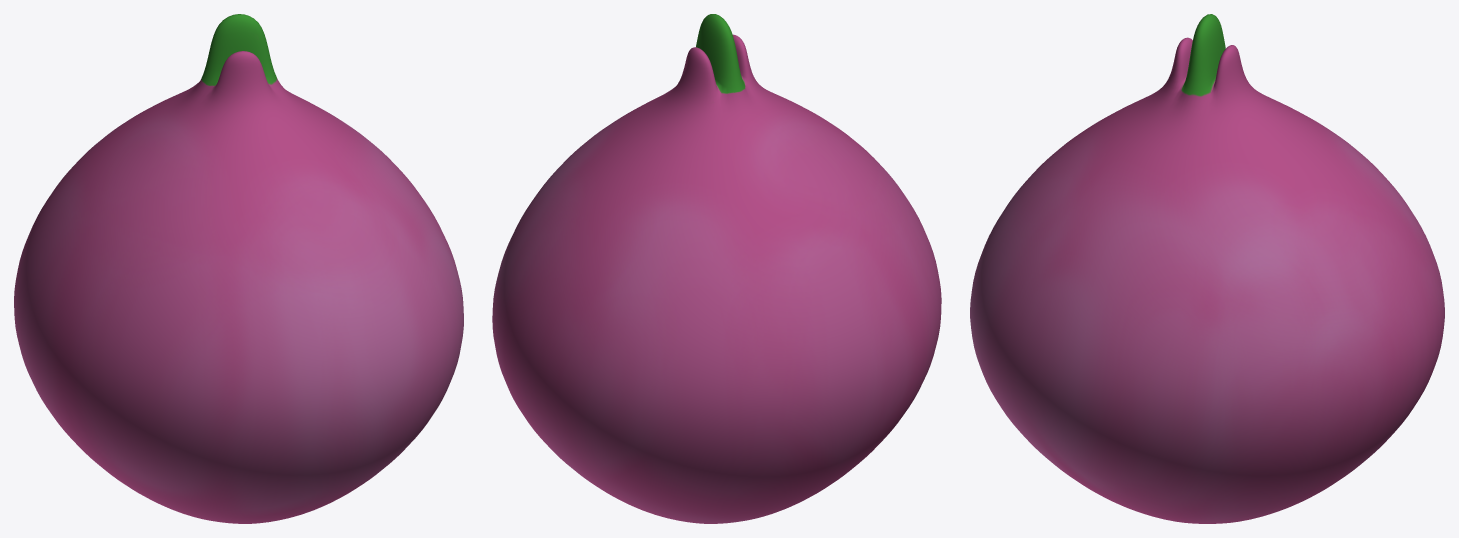
File: Onion.fbx
3 views of the same model, side by side, from view 1: azimuth 30°, elevation 25°; view 2: azimuth 150°, elevation 25°; view 3: azimuth 270°, elevation 25° (orthographic).
Parts seen in each view (by area): view 1: SM_Onion; view 2: SM_Onion; view 3: SM_Onion.
Part boxes in pixels (x1=…): SM_Onion: x1=14, y1=14, x2=463, y2=523; SM_Onion: x1=492, y1=14, x2=941, y2=523; SM_Onion: x1=970, y1=14, x2=1444, y2=523.
Size of the model in its own units: 38.66 by 47.48 by 41.47.
